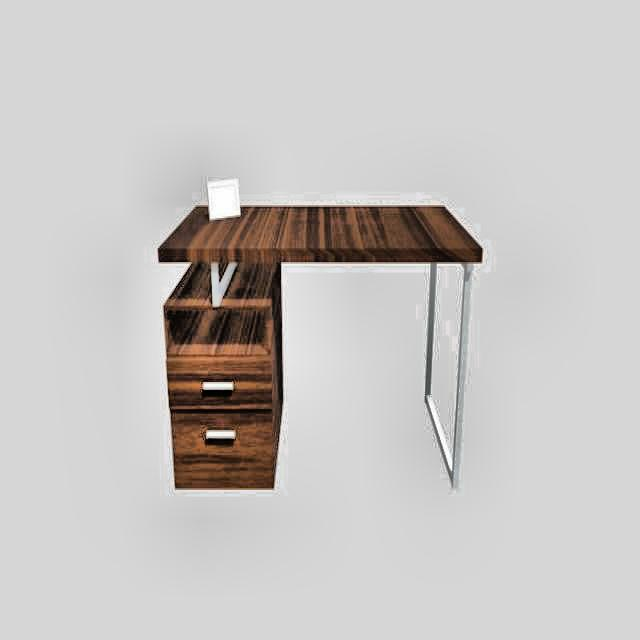mesa: (154, 202, 484, 490)
